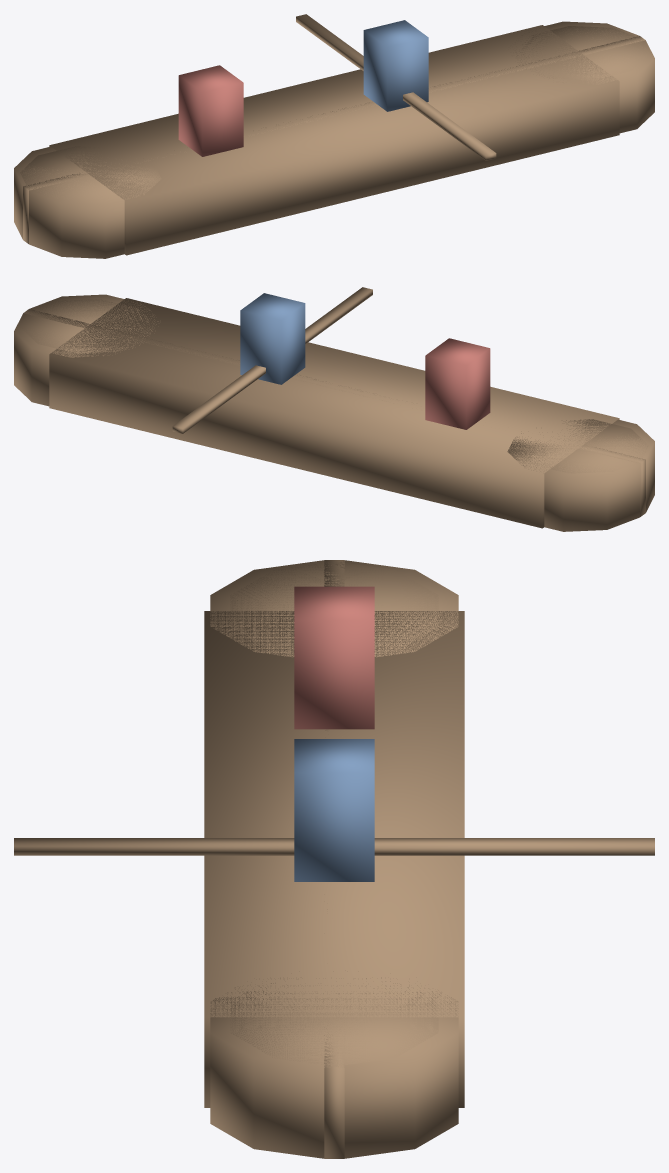
File: boat_rowing.glb
3 renders of one model, top to bottom at view 1: azimuth 30°, elevation 25°; view 2: azimuth 150°, elevation 25°; view 3: azimuth 270°, elevation 25°, orthographic. The views are drawn at different scales.
Parts seen in each view (by area): view 1: boat_rowing; view 2: boat_rowing; view 3: boat_rowing.
Part boxes in pixels (box(x1,y1,x2,y2)): boat_rowing: box(14, 14, 654, 258); boat_rowing: box(14, 287, 654, 531); boat_rowing: box(14, 560, 654, 1158).
Bounding box in the file's own units: 6 × 1.1 × 3.2.
